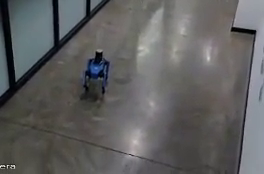robot dog: (79, 48, 113, 98)
